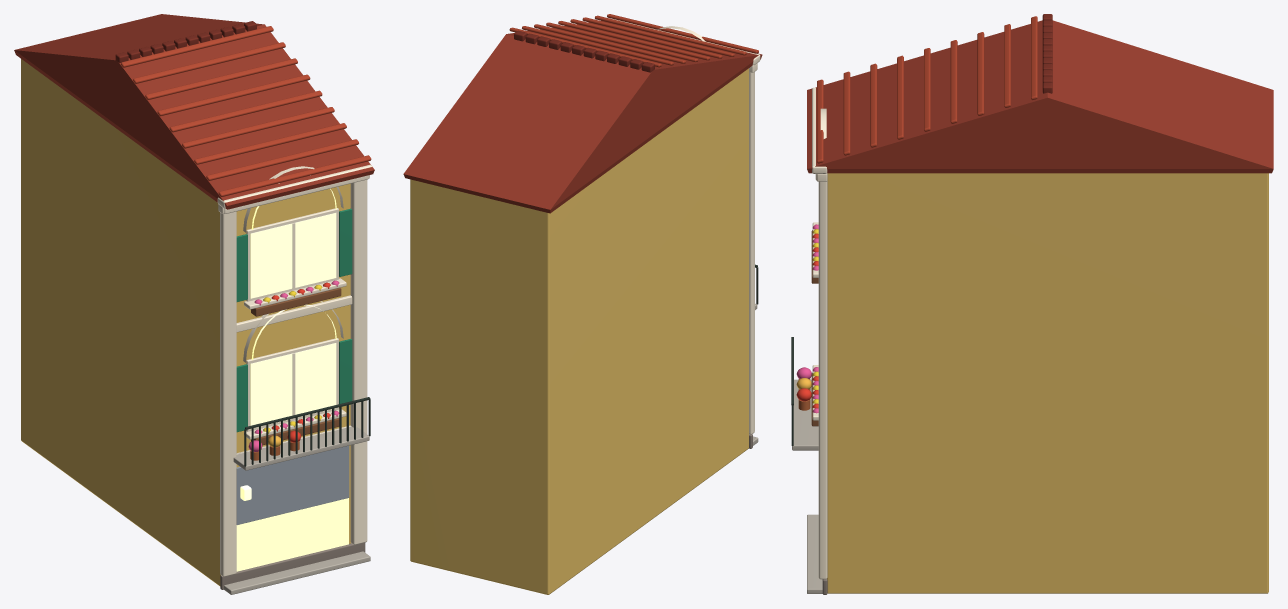
Rendered from house_3f_roof.glb.
3 views of the same model, side by side, from view 1: azimuth 30°, elevation 25°; view 2: azimuth 150°, elevation 25°; view 3: azimuth 270°, elevation 25° (orthographic). The views are drawn at different scales.
Parts seen in each view (by area): view 1: Shell, Roof, Pil-0.06, Shutter, Pil3.3000000000000003, W2Glass, W1Glass, Inside, B1Slab, Step, Plinth, Band2 (+21 smaller); view 2: Shell, Roof, Pil-0.06, Tiles5, Tiles2, Tiles1, Tiles4, Tiles3, Tiles7, Tiles6, Tiles0; view 3: Shell, Roof, Pil3.3000000000000003, B1Slab, Step, Tiles2, Tiles1, Tiles5, Tiles6.
Boxes of the visible parts, x1=… form: Shell: x1=21, y1=59, x2=350, y2=586; Roof: x1=14, y1=14, x2=374, y2=209; Pil-0.06: x1=220, y1=211, x2=236, y2=576; Shutter: x1=236, y1=445, x2=349, y2=524; Pil3.3000000000000003: x1=350, y1=179, x2=367, y2=544; W2Glass: x1=250, y1=213, x2=336, y2=298; W1Glass: x1=250, y1=343, x2=336, y2=427; Inside: x1=236, y1=498, x2=348, y2=571; B1Slab: x1=233, y1=426, x2=369, y2=470; Step: x1=224, y1=551, x2=370, y2=594; Plinth: x1=220, y1=542, x2=365, y2=589; Band2: x1=236, y1=295, x2=352, y2=332; Shell: x1=410, y1=68, x2=748, y2=594; Roof: x1=403, y1=20, x2=762, y2=213; Pil-0.06: x1=749, y1=68, x2=754, y2=434; Tiles5: x1=546, y1=22, x2=698, y2=62; Tiles2: x1=582, y1=17, x2=734, y2=56; Tiles1: x1=595, y1=15, x2=746, y2=55; Tiles4: x1=558, y1=21, x2=710, y2=60; Tiles3: x1=570, y1=19, x2=722, y2=58; Tiles7: x1=522, y1=26, x2=673, y2=65; Tiles6: x1=534, y1=24, x2=685, y2=63; Tiles0: x1=607, y1=14, x2=758, y2=53; Shell: x1=827, y1=173, x2=1268, y2=593; Roof: x1=807, y1=20, x2=1273, y2=173; Pil3.3000000000000003: x1=818, y1=180, x2=827, y2=579; B1Slab: x1=792, y1=379, x2=818, y2=450; Step: x1=807, y1=514, x2=822, y2=593; Tiles2: x1=870, y1=63, x2=877, y2=147; Tiles1: x1=843, y1=71, x2=850, y2=155; Tiles5: x1=950, y1=40, x2=957, y2=123; Tiles6: x1=977, y1=32, x2=984, y2=115.
Size of the model in its own units: 3.88 by 11.32 by 9.82.
